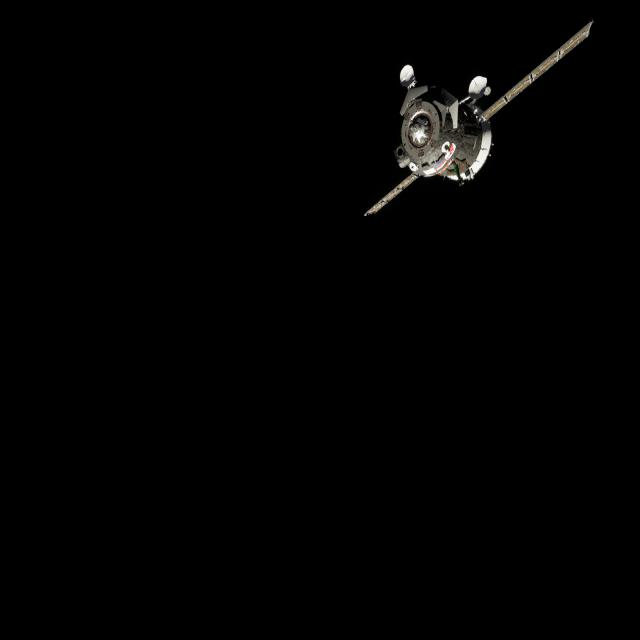Satellites revolving around earth: (361, 17, 595, 220)
